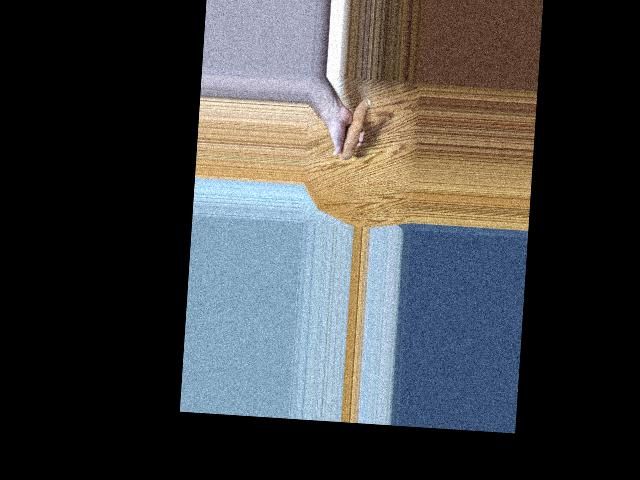sweet_potato: (340, 97, 361, 161)
